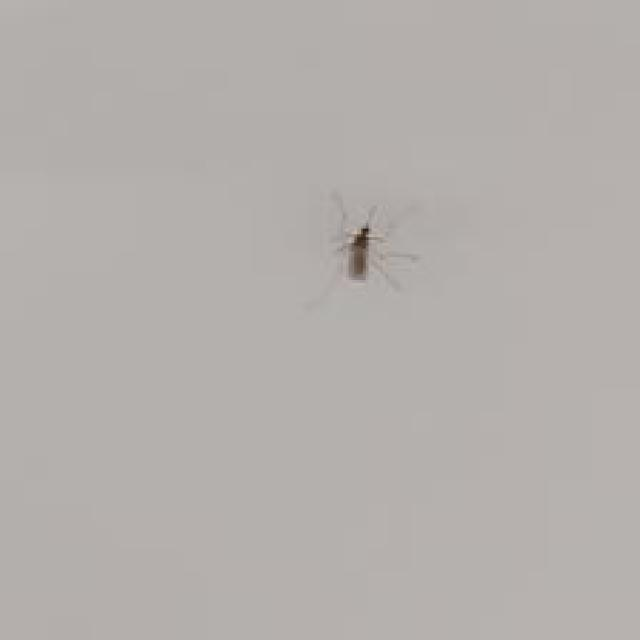Culex: (304, 187, 422, 310)
